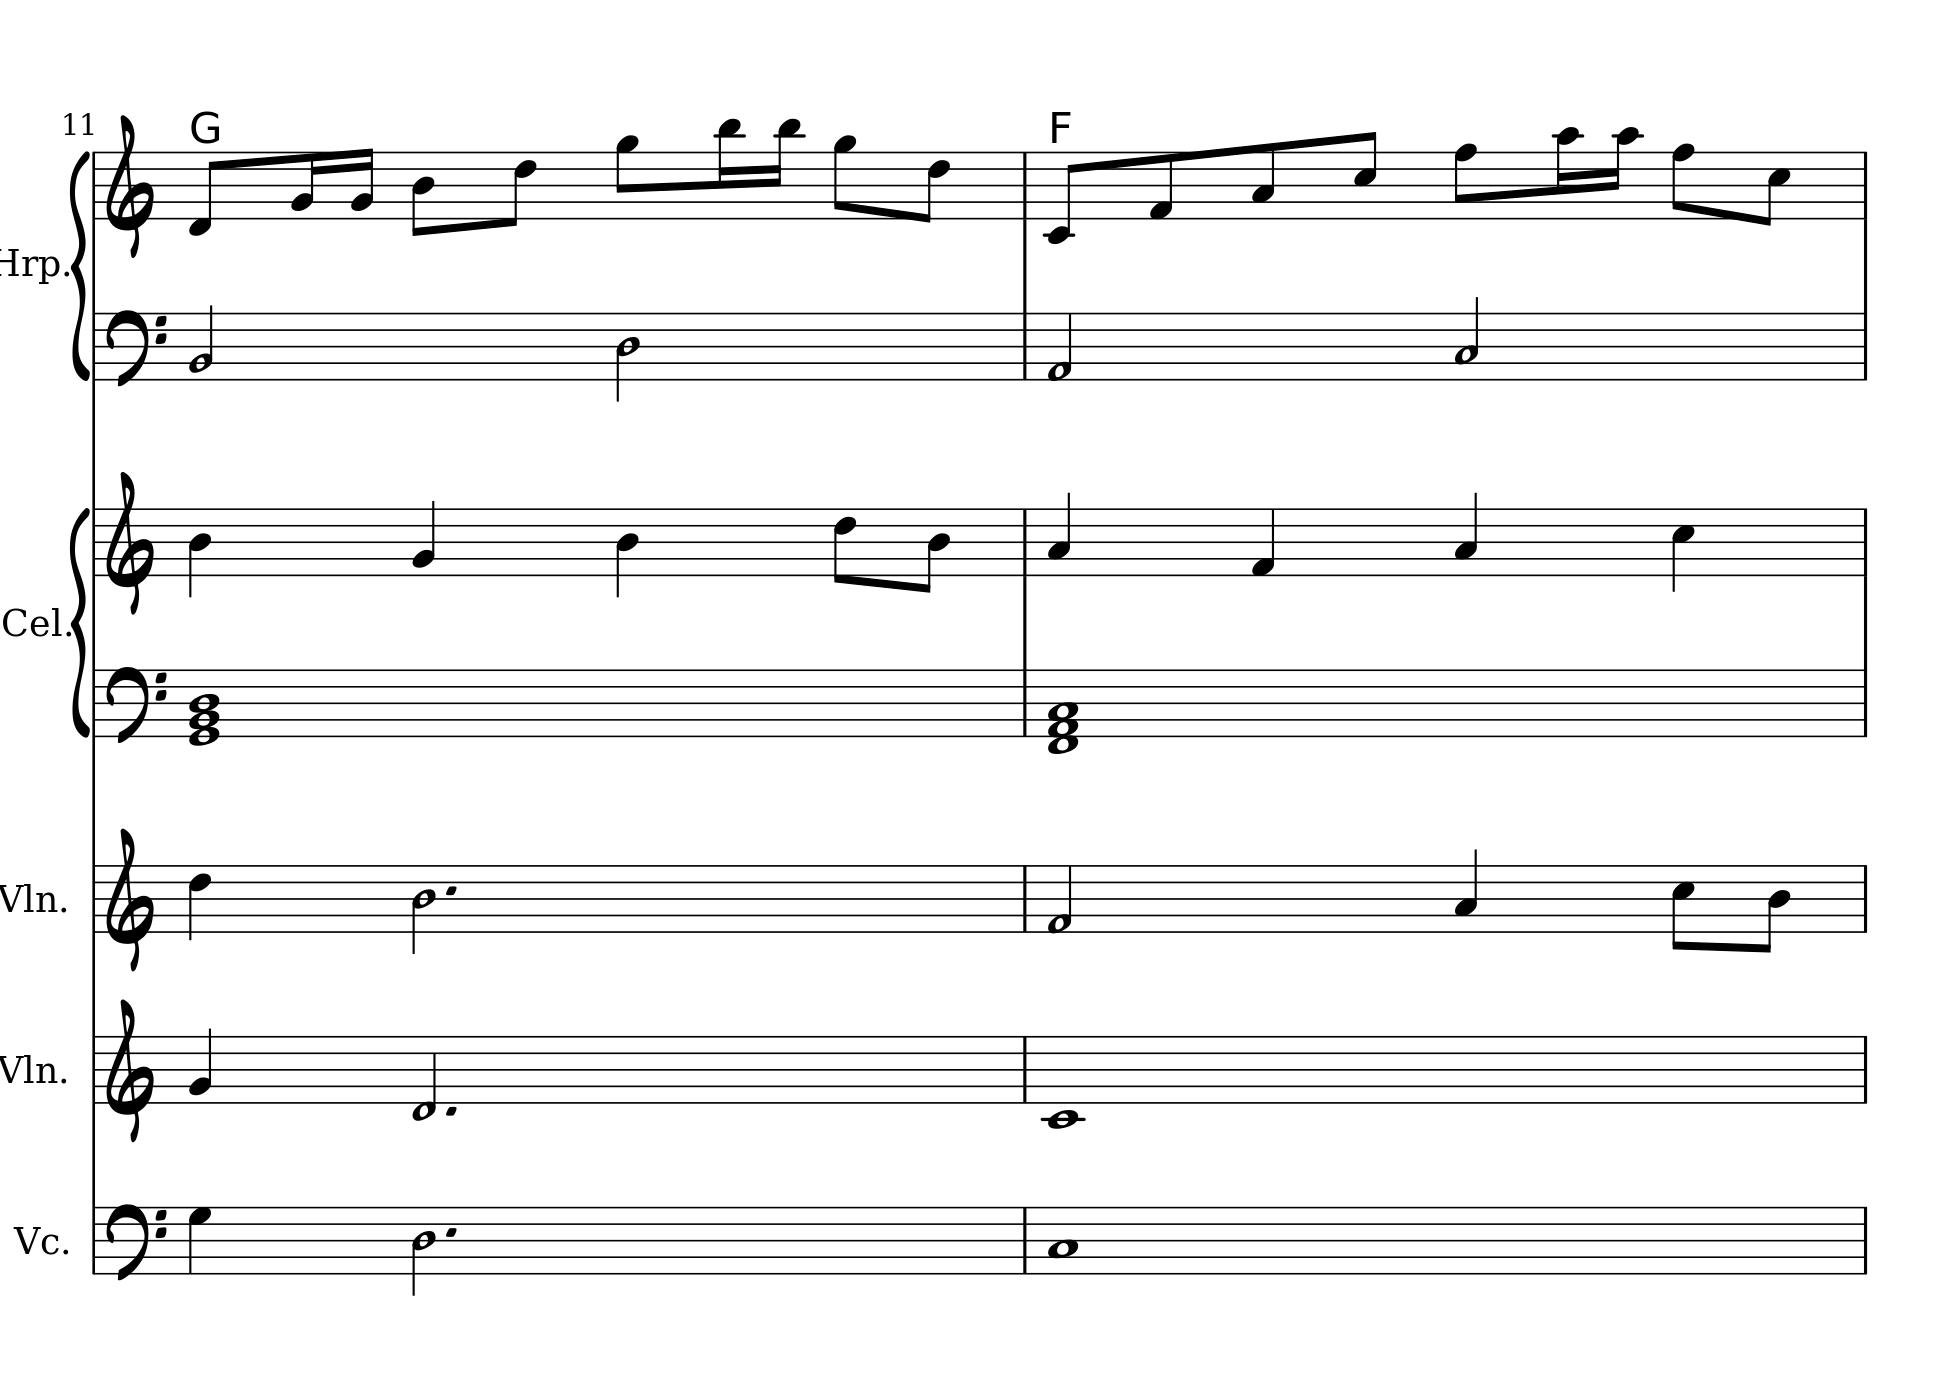1: (61, 109, 76, 138), (79, 109, 94, 138)
16_10: (1605, 124, 1641, 222), (1554, 124, 1581, 222)
16_11: (765, 115, 802, 220), (714, 115, 744, 220)
16_2: (289, 148, 321, 220), (349, 145, 375, 220)
1_-2: (1044, 1032, 1083, 1132)
1_3: (1047, 1204, 1080, 1276)
1_th: (1047, 667, 1081, 756), (187, 667, 220, 748)
2_-1: (411, 1033, 439, 1120)
2_1: (1047, 310, 1075, 382), (1047, 864, 1075, 936)
2_2: (187, 301, 214, 381)
2_3: (1453, 295, 1480, 381)
2_4: (409, 862, 436, 955), (409, 1204, 436, 1297), (613, 310, 640, 402)
4_1: (1251, 507, 1278, 577)
4_2: (412, 496, 439, 577), (187, 1024, 214, 1105)
4_3: (1453, 846, 1480, 934), (1047, 490, 1074, 577), (1453, 490, 1479, 577)
4_4: (187, 505, 213, 598), (615, 505, 640, 598)
4_5: (1671, 505, 1696, 595)
4_6: (187, 862, 211, 942)
4_7: (187, 1204, 213, 1275)
8_-1: (186, 148, 220, 237)
8_-2: (1044, 148, 1080, 244)
8_1: (1149, 148, 1176, 220)
8_3: (1251, 141, 1278, 222)
8_4: (916, 505, 951, 595), (1758, 862, 1791, 955), (409, 150, 435, 238)
8_5: (1758, 148, 1791, 228), (1353, 129, 1380, 222), (1671, 862, 1696, 954)
8_6: (501, 148, 538, 229), (918, 148, 951, 223), (832, 504, 859, 586)
8_8: (1452, 141, 1479, 220), (1671, 141, 1696, 220)
8_9: (613, 133, 640, 220), (832, 133, 856, 220)
Brace: (69, 505, 91, 739), (70, 148, 90, 381)
Cel: (4, 601, 64, 640)
Fclef: (103, 307, 169, 388), (103, 663, 168, 744), (105, 1201, 168, 1284)
Gclef: (103, 112, 156, 259), (103, 826, 156, 973), (103, 997, 156, 1144), (103, 468, 154, 615)
Hrp: (1, 244, 58, 289)
Single_barline: (1017, 151, 1035, 219), (1857, 864, 1875, 931), (1017, 508, 1035, 574), (1017, 669, 1035, 735), (1017, 865, 1035, 931), (1857, 1036, 1875, 1102), (1857, 1206, 1873, 1273), (1857, 151, 1873, 217), (1017, 313, 1033, 379), (1857, 313, 1873, 379), (1857, 508, 1873, 574), (1017, 1036, 1033, 1102), (1017, 1206, 1033, 1272), (1857, 670, 1873, 735), (88, 507, 102, 576), (88, 151, 102, 219), (87, 865, 100, 931), (87, 1036, 100, 1102), (87, 1207, 100, 1273), (88, 670, 102, 735), (88, 313, 100, 378)
Vc: (10, 1219, 64, 1255)
Vln: (1, 1048, 58, 1089), (1, 879, 58, 916)
dot: (442, 1102, 459, 1117), (444, 1224, 460, 1239), (444, 882, 459, 897)
